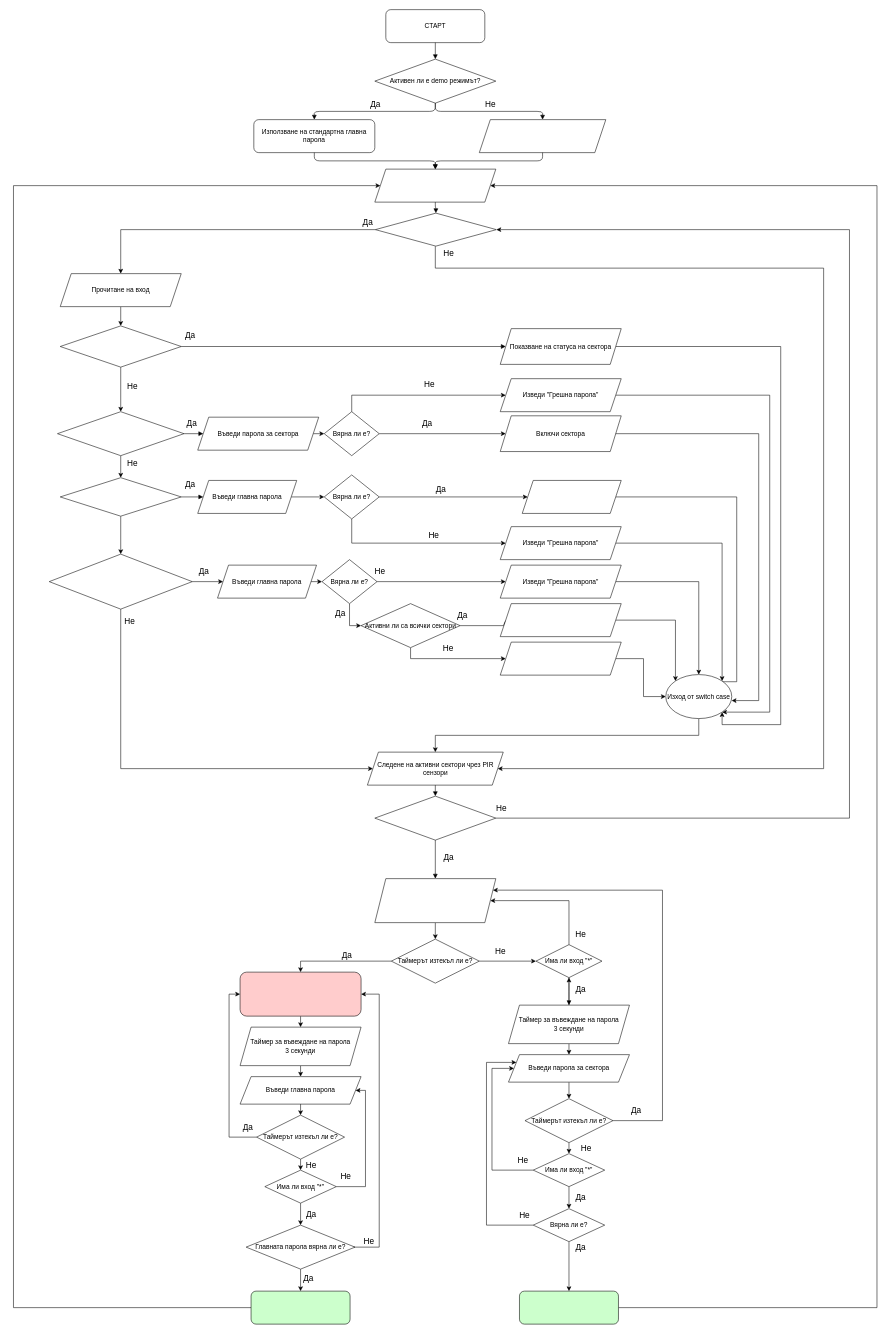
The diagram is 891 pixels wide and 1334 high, and some of its shapes have lost their labels. The box of each missing label's shape, as (x1, y1, x2, y2) in pixels:
Алармата звъни: (240, 972, 361, 1016)
Бутон '#' (Смяна на парола): (60, 477, 181, 516)
Бутон '*' (Включване/изключване): (57, 411, 184, 456)
Бутон 'D': Включи/Изключи всички сектори: (49, 554, 192, 609)
Бутон A/B/C (Избор на сектор): (60, 325, 181, 367)
Включи всички сектори: (500, 642, 621, 675)
Въведи нова парола: (522, 480, 621, 513)
Въвеждане на главна парола чрез клавиатура: (479, 119, 606, 153)
Засечено движение?: (374, 796, 496, 840)
Изключване: (519, 1291, 618, 1324)
Изключи всички сектори: (500, 603, 621, 637)
Има ли натиснат бутон: (375, 213, 496, 246)
Показване на таймер 15 секунди Изчакване на '*' бутон: (374, 878, 496, 923)
Показване: "Избор на сектор": (374, 169, 496, 202)
Спиране на алармата: (251, 1291, 350, 1324)
